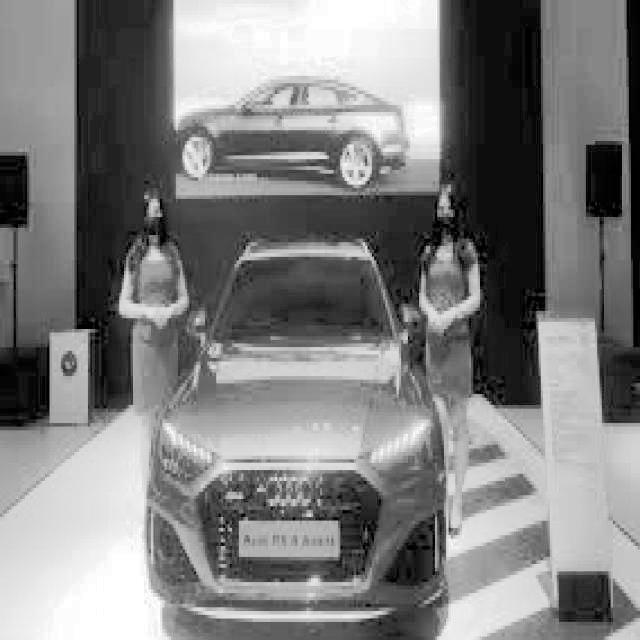Car: (172, 240, 442, 626)
